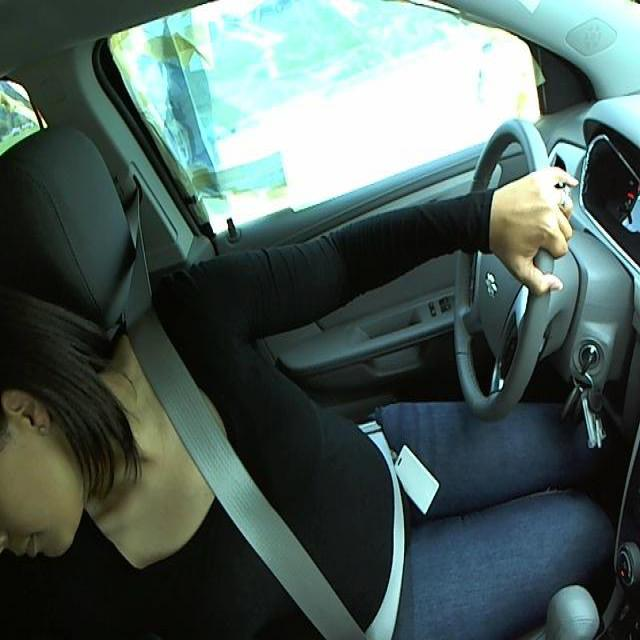seatbelt: (137, 354, 415, 638)
